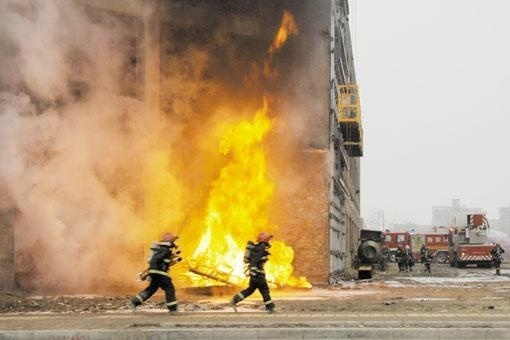fire: (178, 105, 303, 295)
